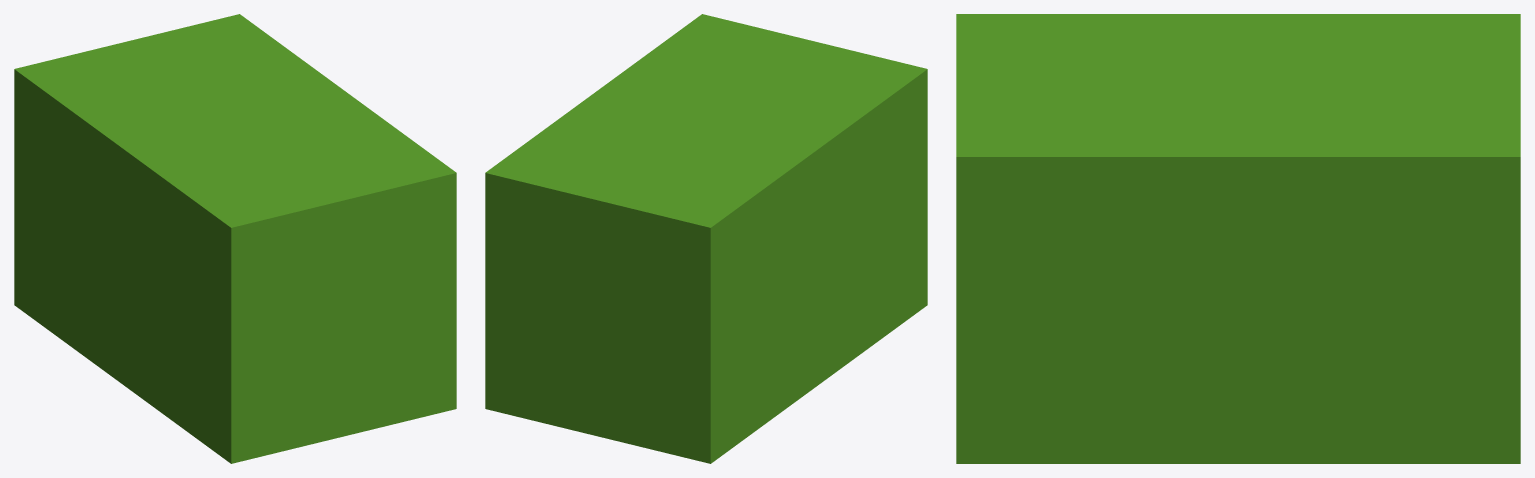
Rendered from Body.obj.
The picture shows the model from 3 angles, left to right: view 1: azimuth 30°, elevation 25°; view 2: azimuth 150°, elevation 25°; view 3: azimuth 270°, elevation 25°; orthographic projection. The views are drawn at different scales.
Bounding box in the file's own units: 3 × 3 × 5.
